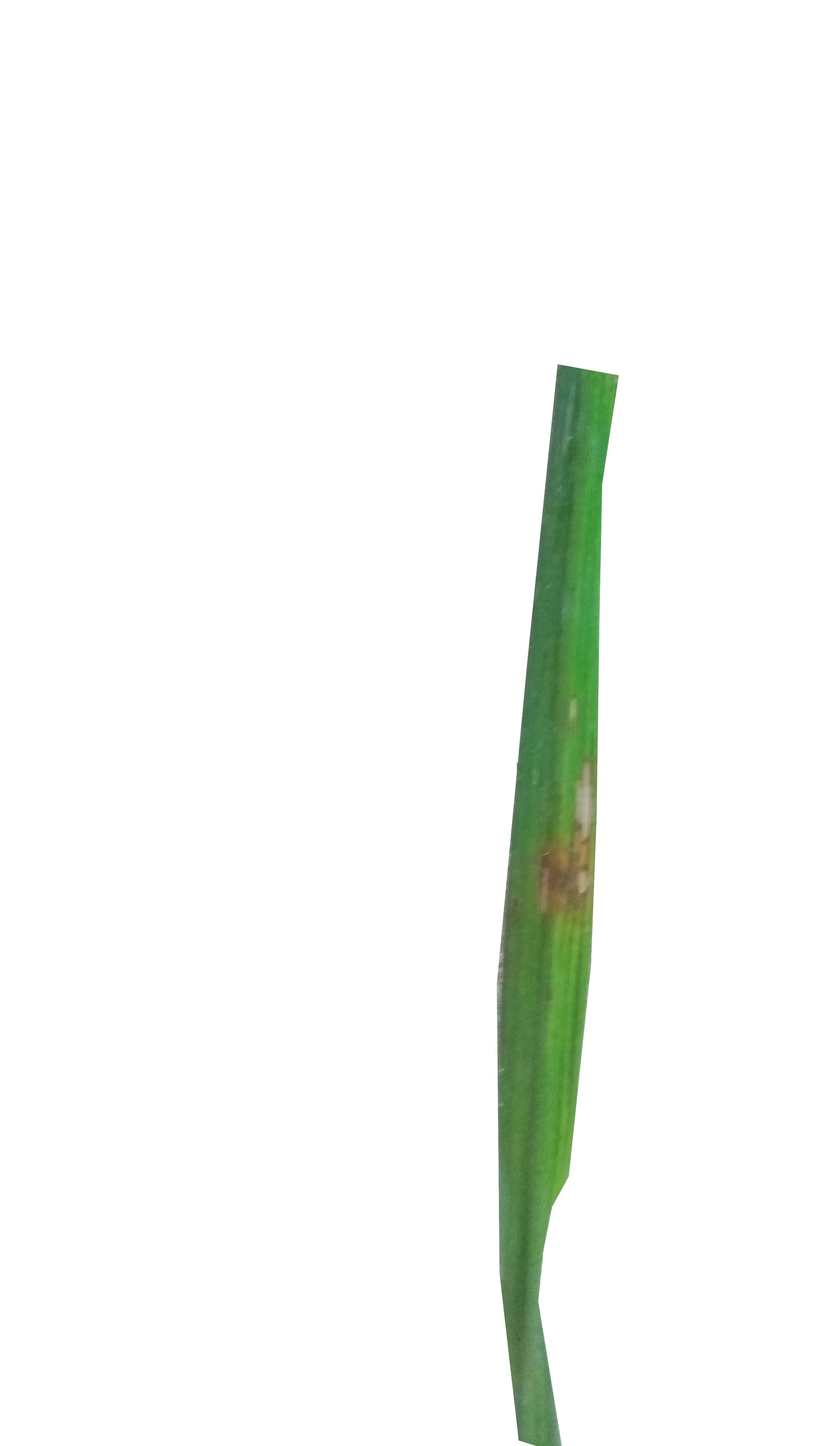Rice blast: (527, 734, 593, 942)
